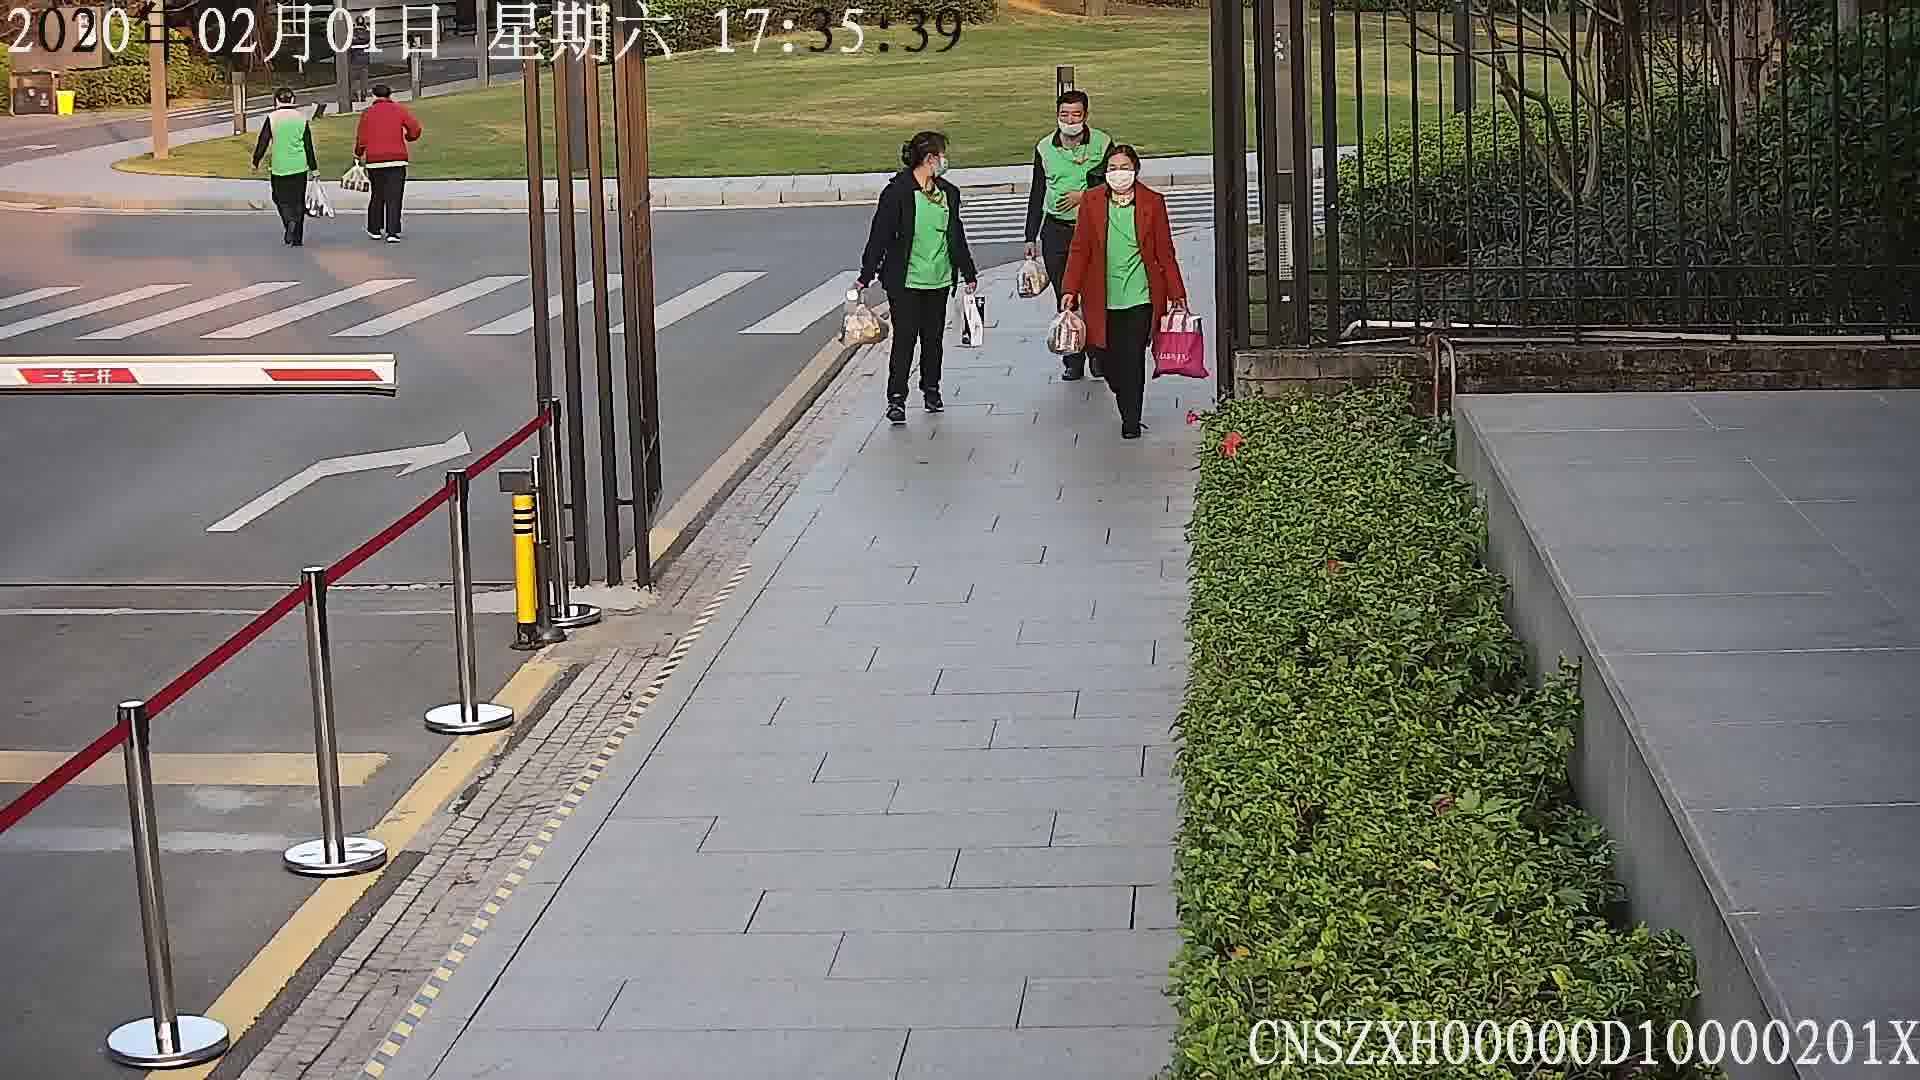face: (1058, 100, 1086, 138), (1107, 155, 1136, 192), (932, 147, 951, 177)
mask: (1106, 168, 1136, 190), (1058, 120, 1085, 139), (936, 157, 949, 177)
person: (1075, 138, 1167, 219), (882, 127, 963, 213), (1031, 85, 1110, 156), (260, 88, 316, 130), (358, 84, 414, 125)
